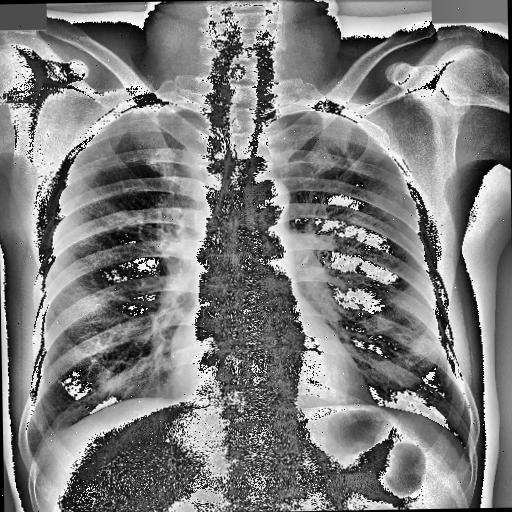11- Pleural thickening: (114, 102, 190, 118), (126, 100, 186, 114), (120, 104, 184, 114)
9- Other lesion: (31, 420, 75, 460), (36, 422, 64, 454)
